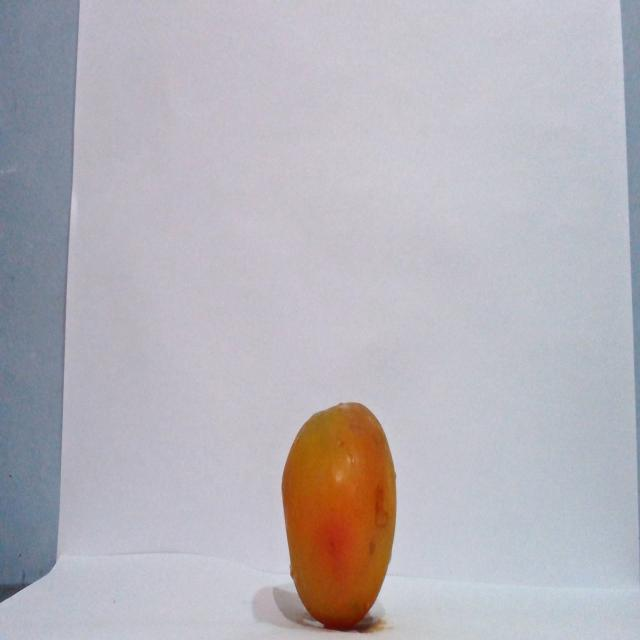Red: (279, 399, 398, 629)
